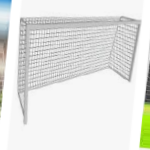goals: (17, 15, 143, 124)
